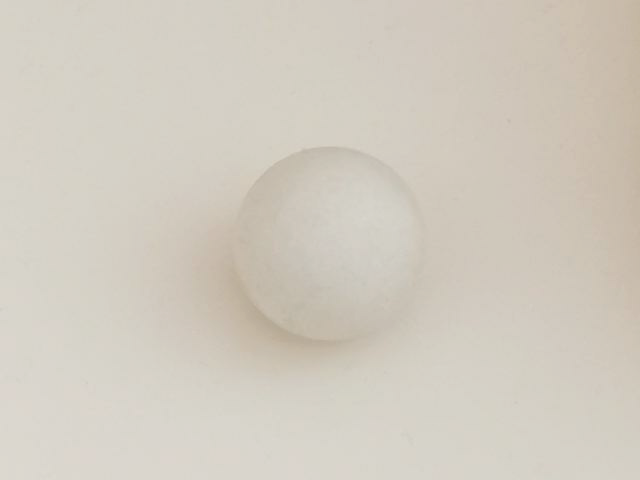ball: (235, 145, 429, 342)
